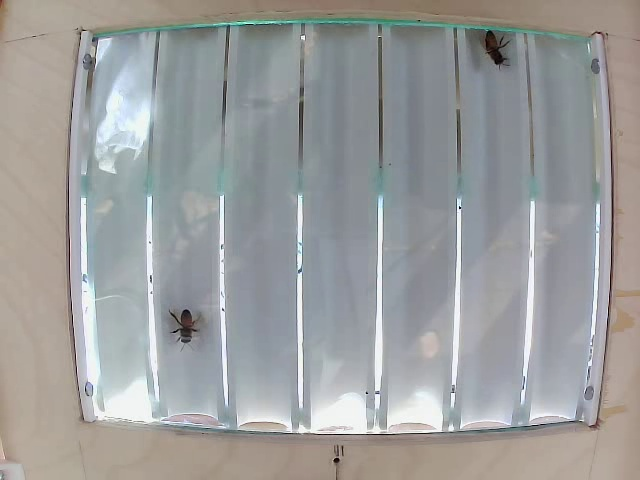bee: (474, 24, 513, 76), (168, 302, 202, 352)
